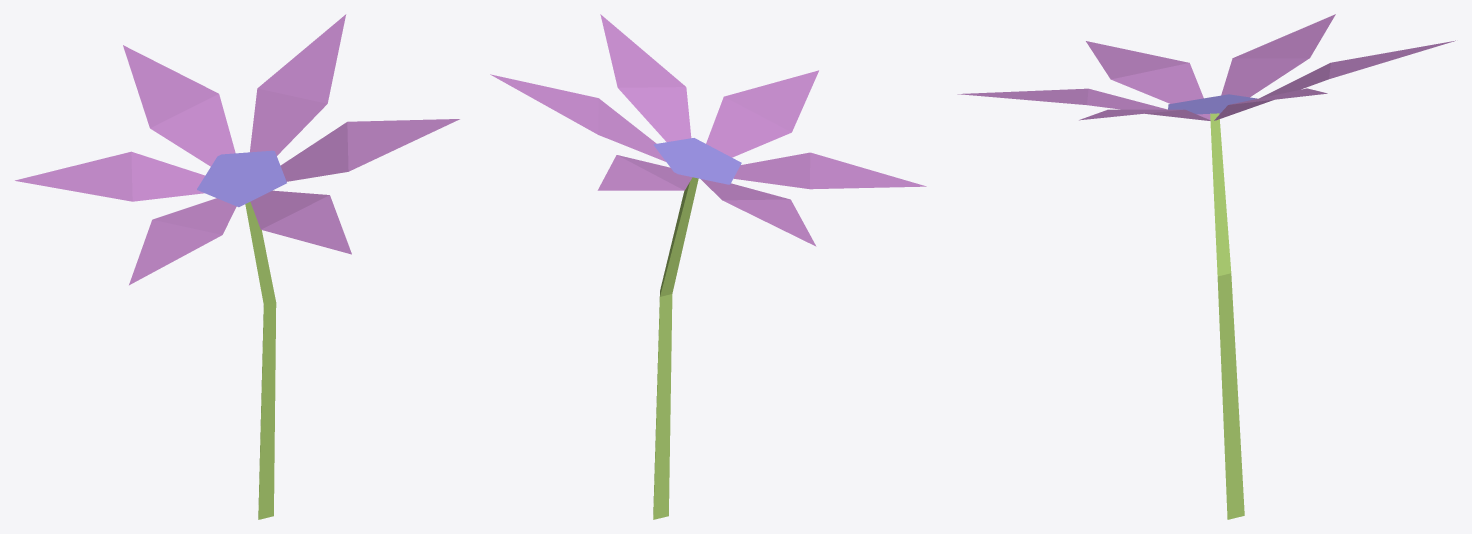
The model's file is Flower_b_OneS_02.fbx.
3 views of the same model, side by side, from view 1: azimuth 30°, elevation 25°; view 2: azimuth 150°, elevation 25°; view 3: azimuth 270°, elevation 25° (orthographic). The views are drawn at different scales.
Parts seen in each view (by area): view 1: Flower_b_OneS_02; view 2: Flower_b_OneS_02; view 3: Flower_b_OneS_02.
Boxes of the visible parts, bbox=[...] form: Flower_b_OneS_02: bbox=[15, 14, 459, 519]; Flower_b_OneS_02: bbox=[490, 14, 926, 519]; Flower_b_OneS_02: bbox=[957, 14, 1455, 519].
Bounding box in the file's own units: 0.3336 × 0.424 × 0.3928.
